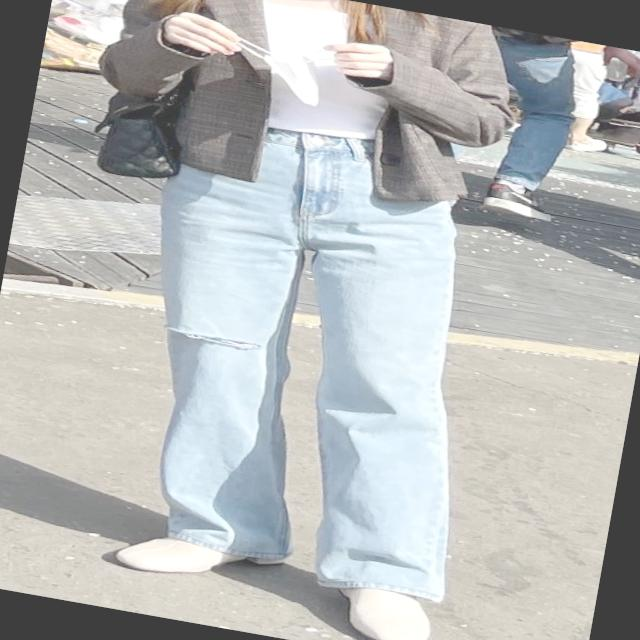blazer: (83, 0, 532, 223)
denimpants: (98, 102, 526, 608)
